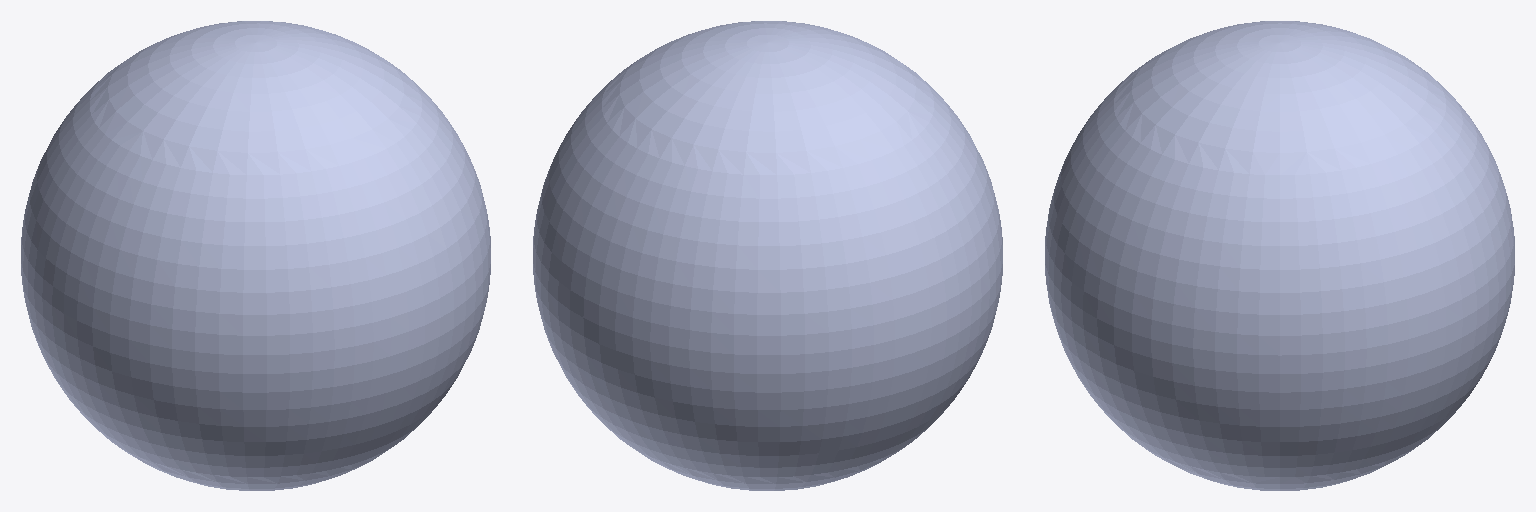
3 views of the same model, side by side, from view 1: azimuth 30°, elevation 25°; view 2: azimuth 150°, elevation 25°; view 3: azimuth 270°, elevation 25° (orthographic).
Visible parts, largest first — view 1: IGES_Model_Data_DC_Brep; view 2: IGES_Model_Data_DC_Brep; view 3: IGES_Model_Data_DC_Brep.
Part boxes in pixels (bbox=[...]): IGES_Model_Data_DC_Brep: bbox=[21, 21, 490, 490]; IGES_Model_Data_DC_Brep: bbox=[533, 21, 1002, 490]; IGES_Model_Data_DC_Brep: bbox=[1045, 21, 1514, 490].
Bounding box in the file's own units: 2.4 × 2.4 × 2.4.